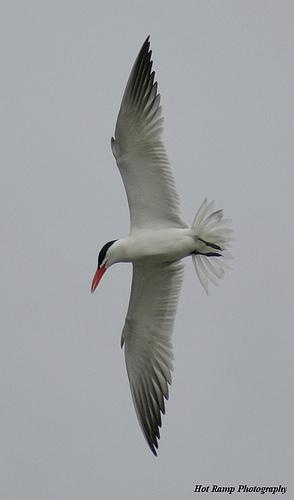bird: (82, 30, 228, 456)
